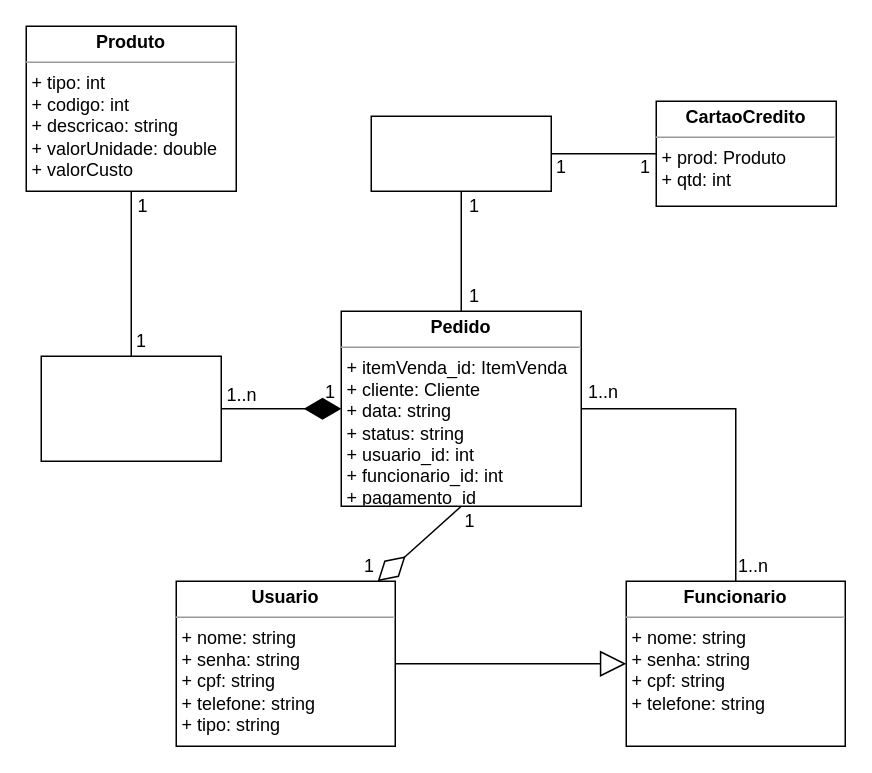
Some shapes in this 872 by 773 pixel diagram are drawn without their labels. The shapes that lost their labels are listed below. From the top down, each one's centre as x and y in pixels, then its label:
At point (460, 153): "Pagamento + tipo: string".
At point (130, 408): "ItemVenda + prod: Produto + qtd: int".
